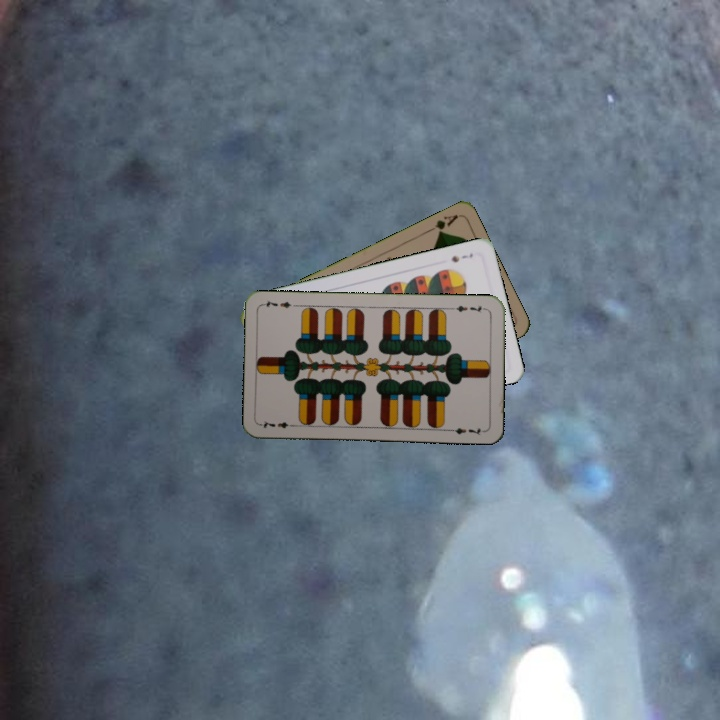E7: (258, 417, 298, 431), (449, 302, 489, 315)
GA: (423, 210, 461, 238)
S7: (447, 249, 475, 265)
